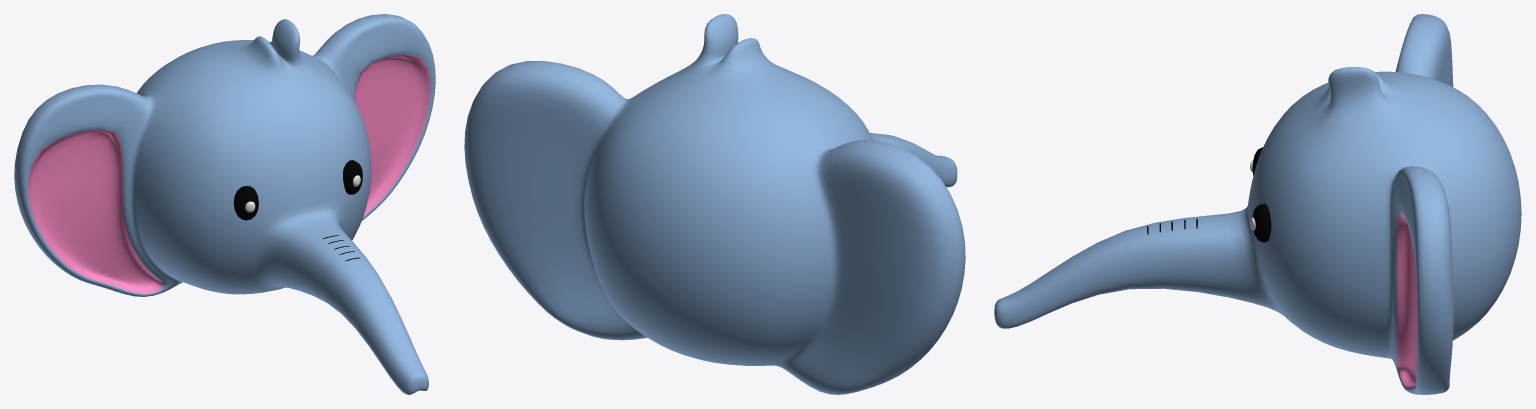
File: elpant.fbx
3 renders of one model, left to right at view 1: azimuth 30°, elevation 25°; view 2: azimuth 150°, elevation 25°; view 3: azimuth 270°, elevation 25°, orthographic. The views are drawn at different scales.
Parts seen in each view (by area): view 1: Elephant; view 2: Elephant; view 3: Elephant.
Boxes of the visible parts, x1,y1,x2,y2 form: Elephant: [14, 14, 435, 394]; Elephant: [464, 14, 965, 394]; Elephant: [994, 14, 1521, 394].
Size of the model in its own units: 781 by 471 by 772.
